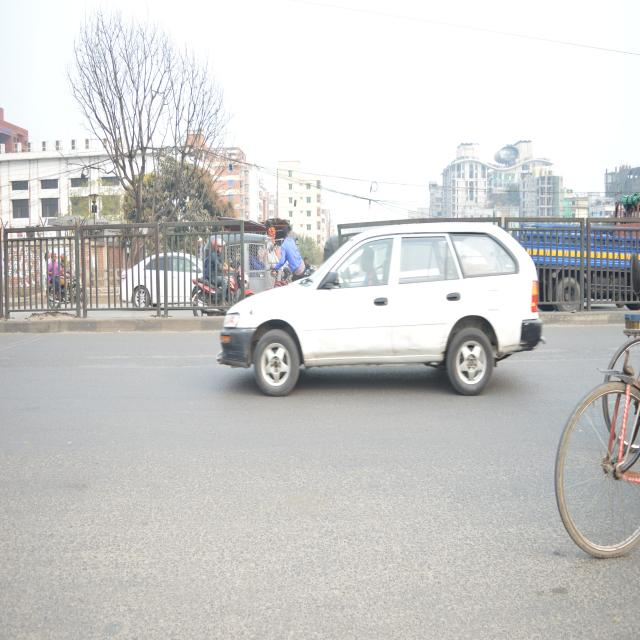car: (217, 218, 540, 394), (122, 248, 208, 310)
